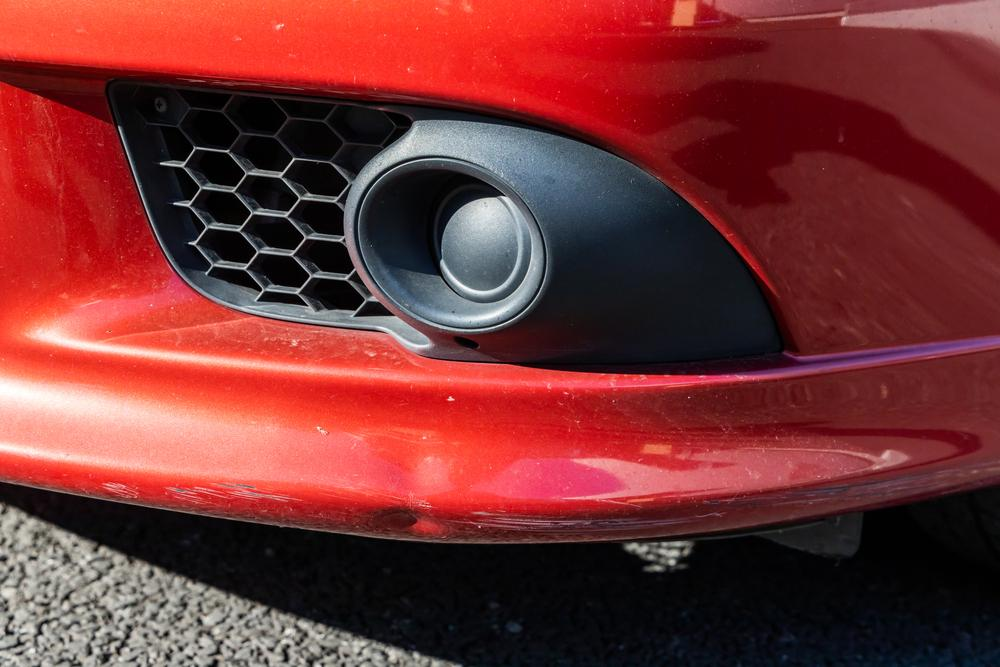dent: (365, 421, 451, 544)
scratch: (459, 457, 1000, 541), (98, 478, 296, 509)
